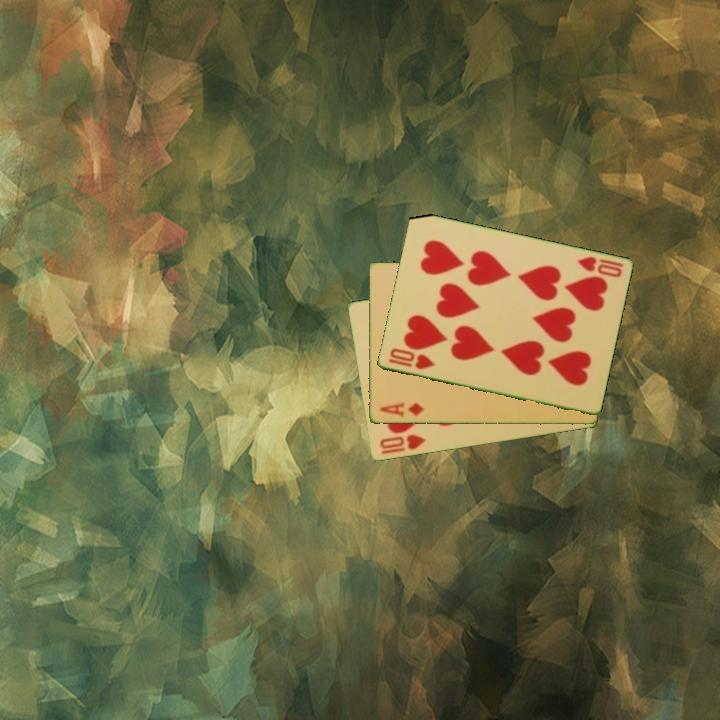10h: (385, 345, 438, 373), (573, 253, 626, 280), (376, 431, 428, 457)
Ad: (376, 399, 427, 420)
